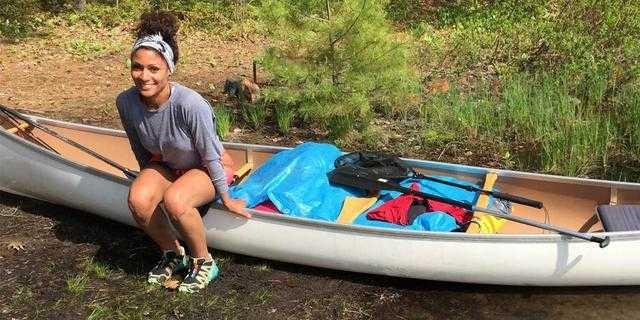kayak: (2, 132, 638, 287)
